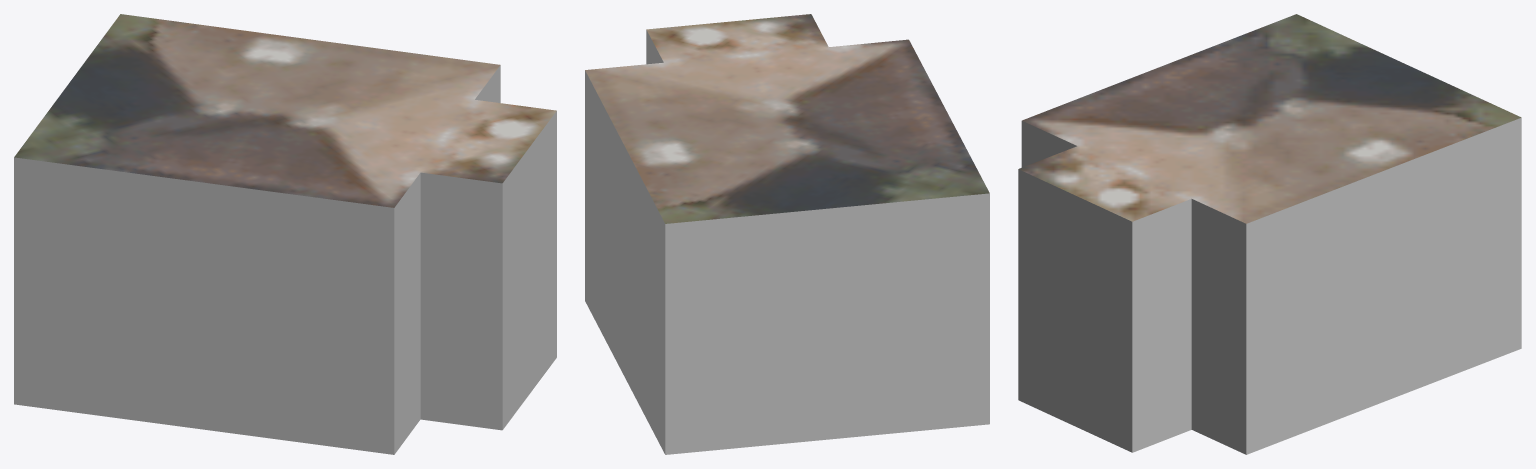
Rendered from DEBW_0010007Txc2.gltf.
The picture shows the model from 3 angles, left to right: view 1: azimuth 30°, elevation 25°; view 2: azimuth 150°, elevation 25°; view 3: azimuth 270°, elevation 25°; orthographic projection. The views are drawn at different scales.
Visible parts, largest first — view 1: Z_UP; view 2: Z_UP; view 3: Z_UP.
Boxes of the visible parts, x1=… form: Z_UP: x1=14, y1=14, x2=556, y2=454; Z_UP: x1=585, y1=14, x2=989, y2=454; Z_UP: x1=1018, y1=14, x2=1521, y2=454.
Bounding box in the file's own units: 18 × 9.24 × 18.25.
2 materials, 1 textured.
